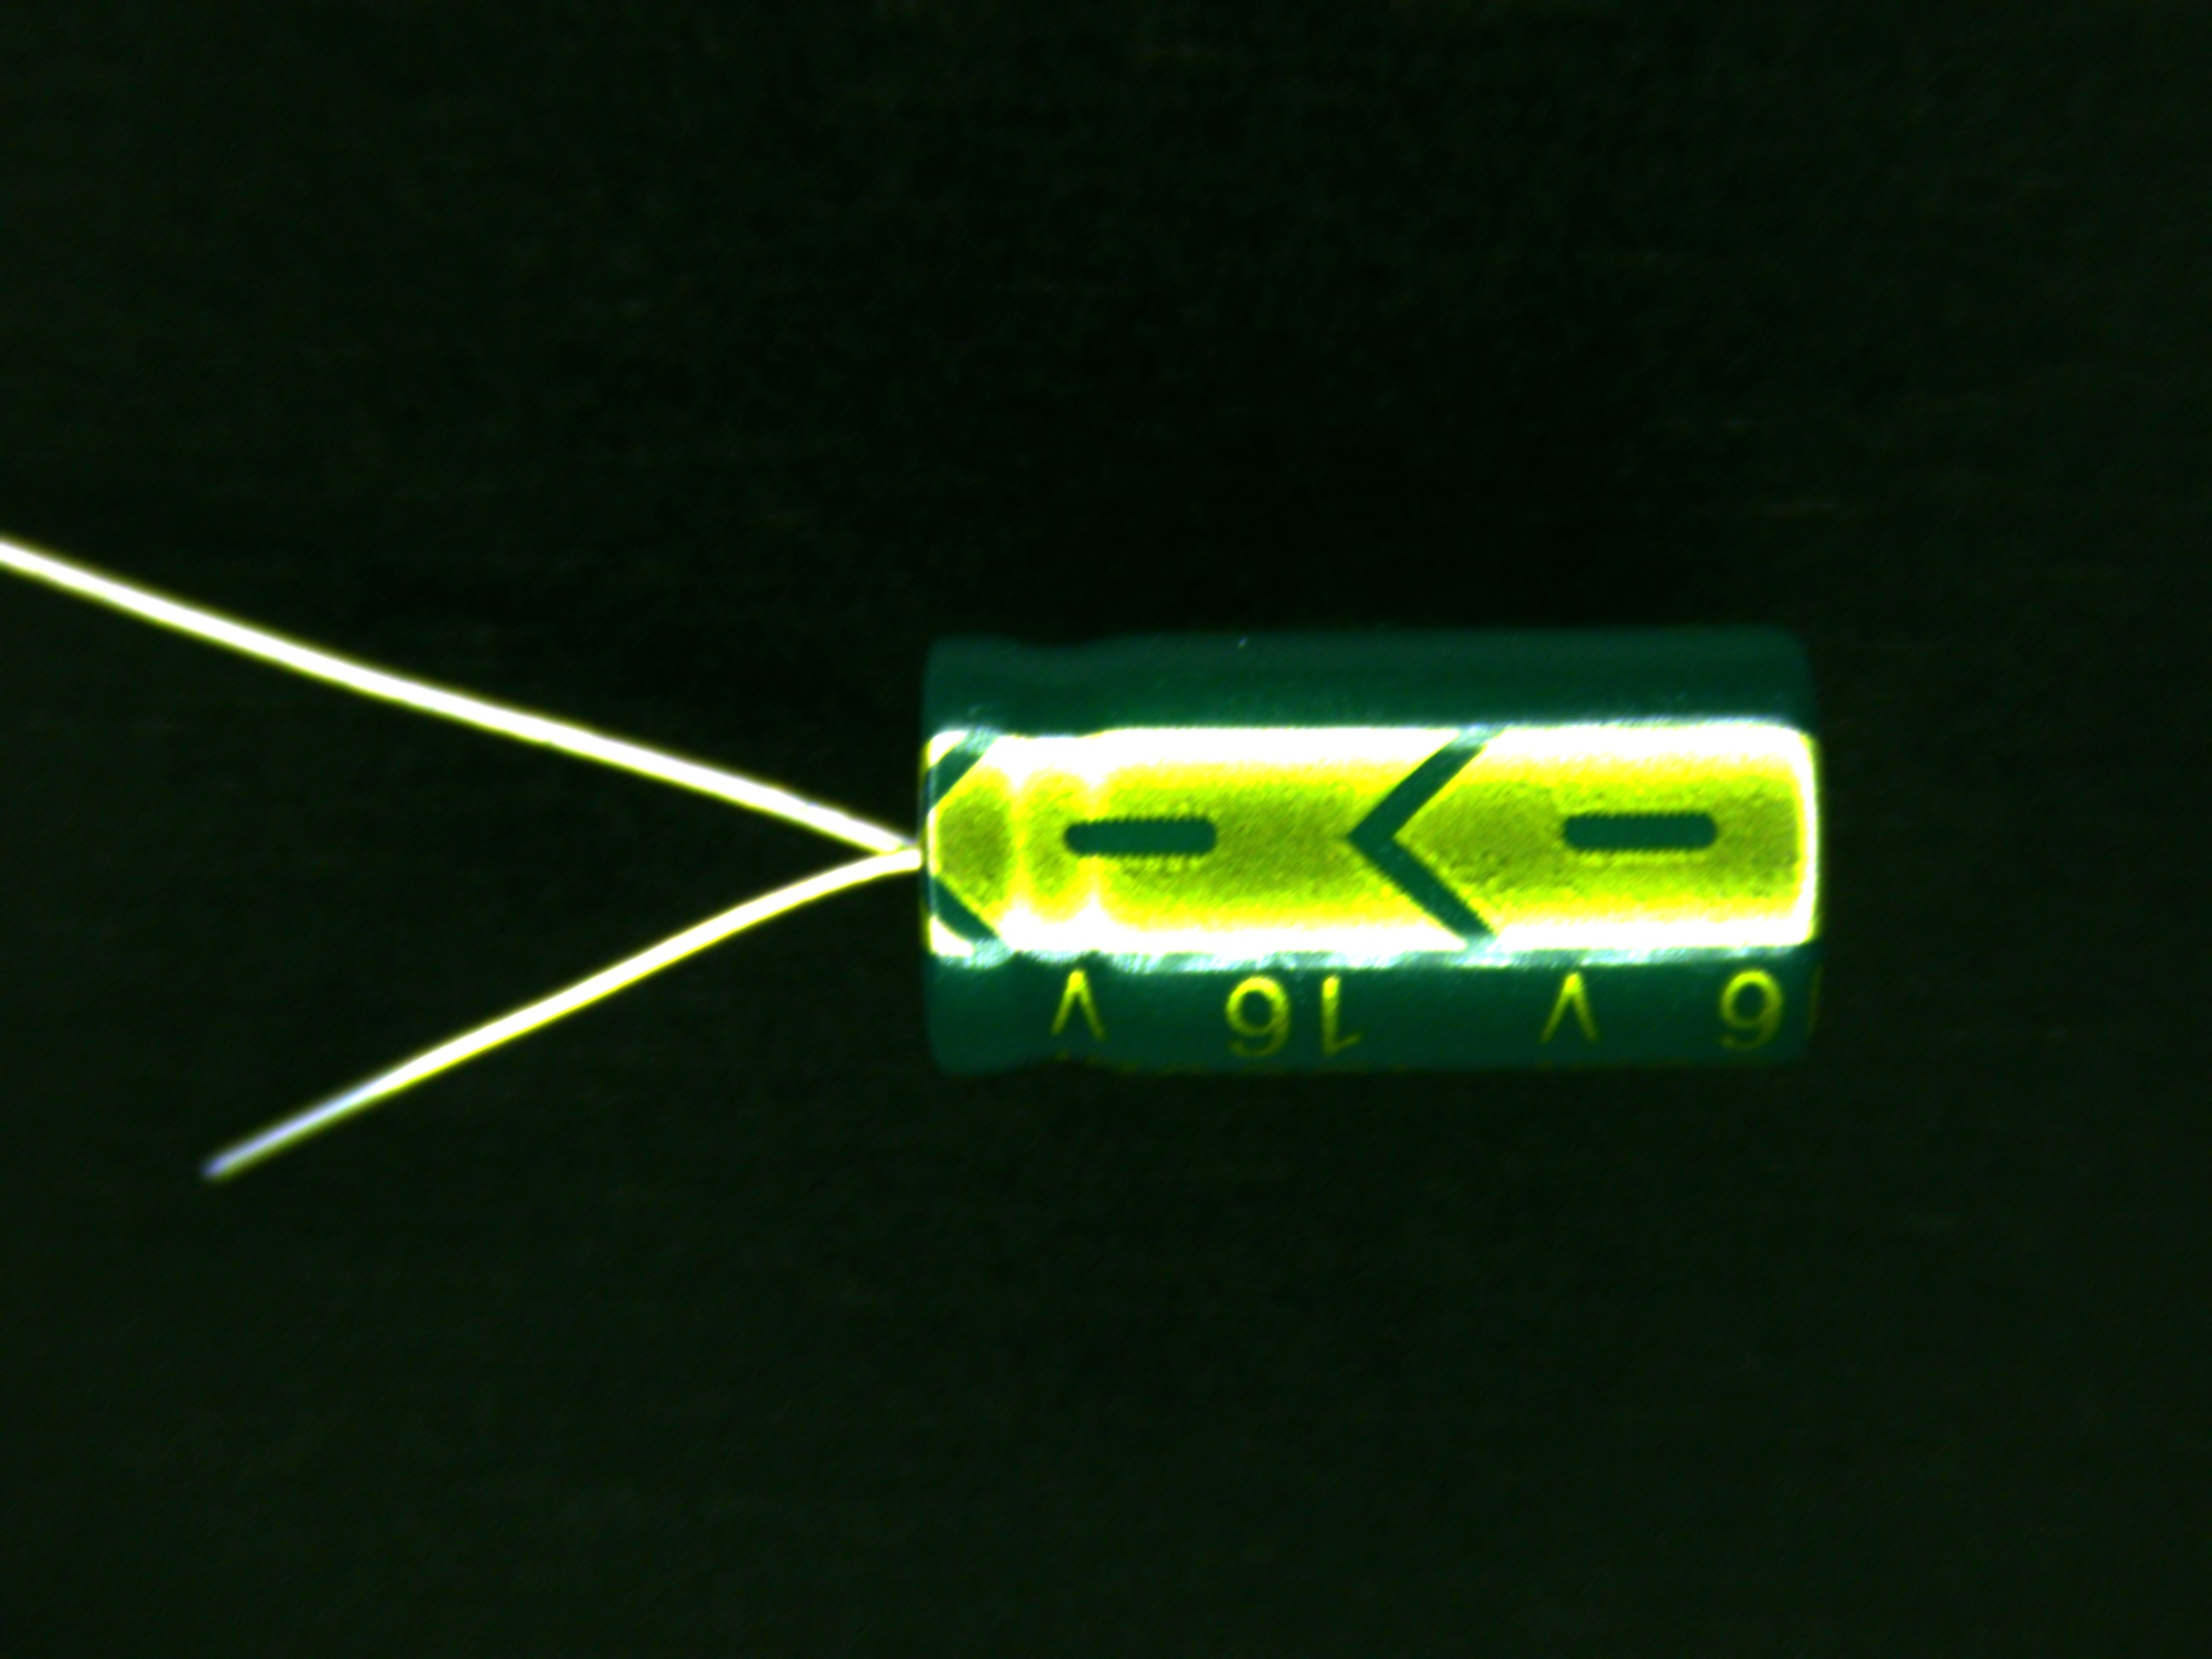c1: (676, 620, 1825, 1082)
